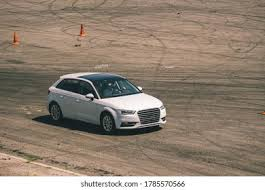car: (45, 70, 166, 136)
cone: (77, 21, 88, 40), (9, 30, 19, 47)
